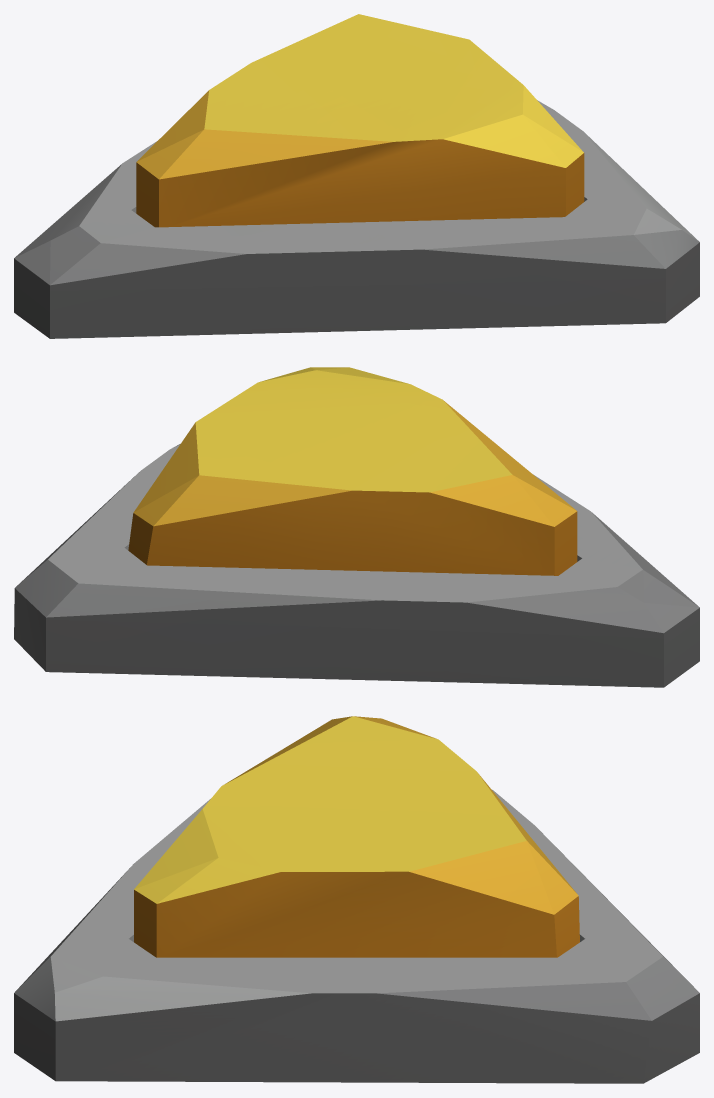
File: rock_triangle.fbx
The picture shows the model from 3 angles, top to bottom: view 1: azimuth 30°, elevation 25°; view 2: azimuth 150°, elevation 25°; view 3: azimuth 270°, elevation 25°; orthographic projection. The views are drawn at different scales.
Visible parts, largest first — view 1: triangle1, triangle; view 2: triangle1, triangle; view 3: triangle1, triangle.
Boxes of the visible parts, bbox=[...] form: triangle1: bbox=[14, 100, 699, 338]; triangle: bbox=[136, 14, 584, 227]; triangle1: bbox=[14, 444, 699, 687]; triangle: bbox=[128, 367, 577, 575]; triangle1: bbox=[14, 790, 699, 1083]; triangle: bbox=[134, 716, 579, 957].
Bounding box in the file's own units: 19.91 × 5.56 × 20.08.
